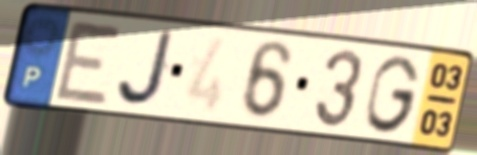3: (310, 46, 365, 131)
4: (181, 34, 230, 116)
6: (238, 38, 296, 124)
E: (51, 16, 127, 108)
G: (362, 52, 424, 136)
J: (114, 27, 180, 109)
